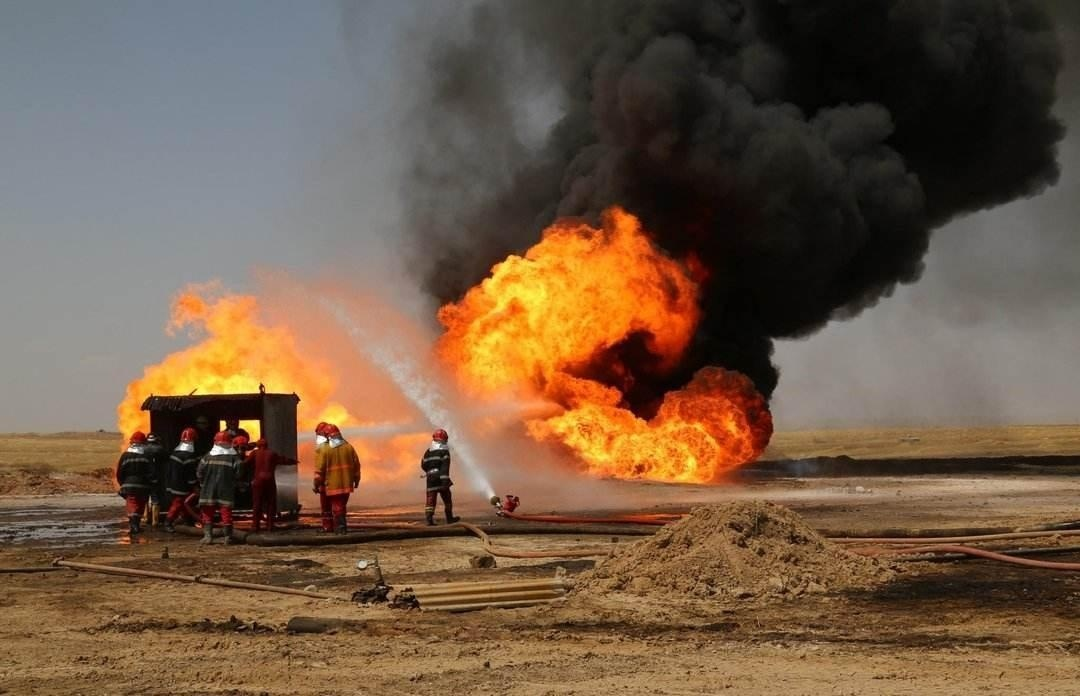fire: (436, 211, 767, 486), (118, 280, 368, 451)
